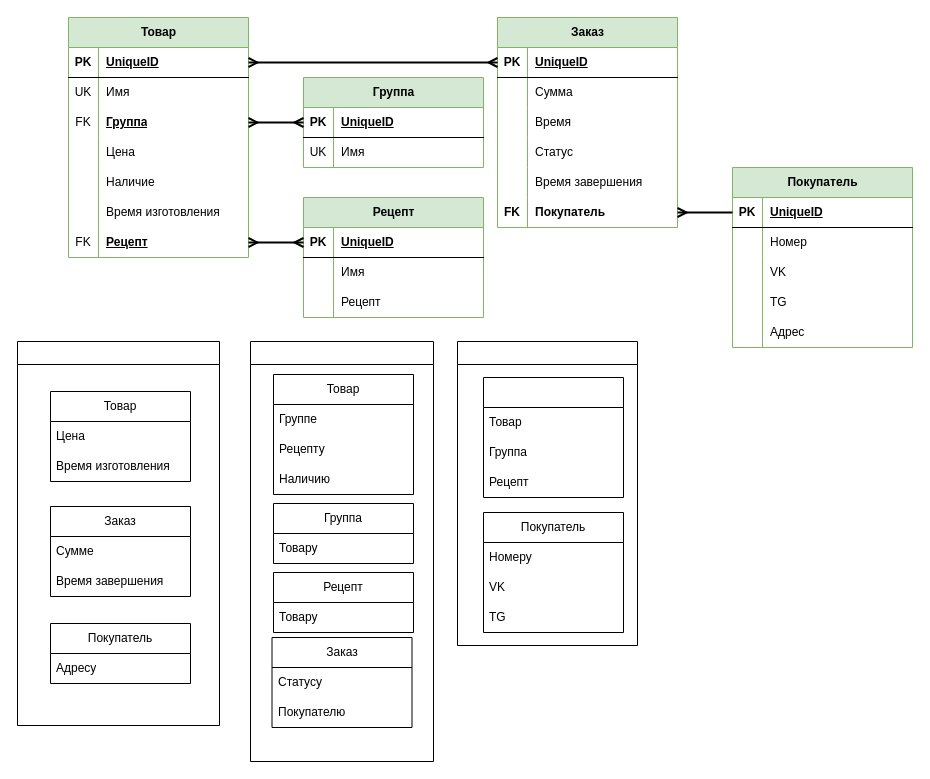
Some shapes in this 930 by 779 pixel diagram are drawn without their labels. The shapes that lost their labels are listed below. From the top down, each one's box as (x1, y1, x2, y2) in pixels, then its label:
(482, 376, 624, 498): По имени
(456, 340, 638, 646): Поиск
(16, 340, 220, 726): Сортировка
(250, 340, 434, 762): Выборка
